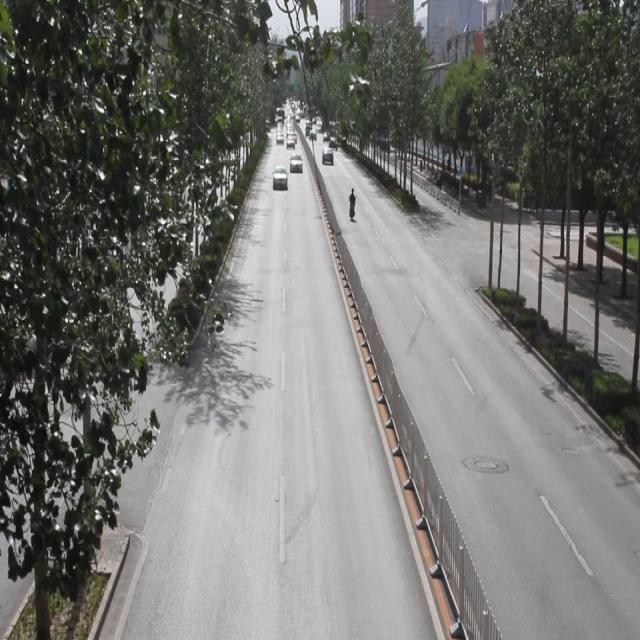car: (272, 164, 287, 188), (289, 152, 302, 172)
